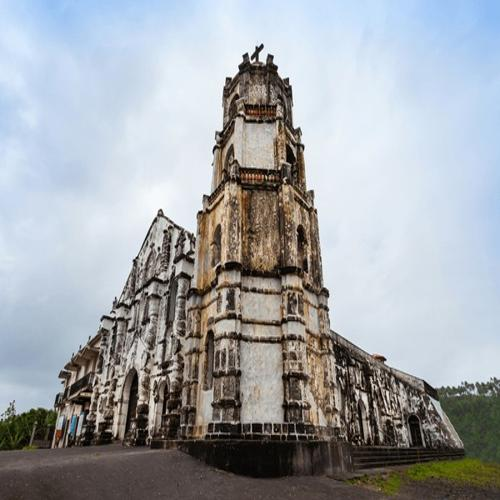Daraga Church: (93, 33, 341, 459)
